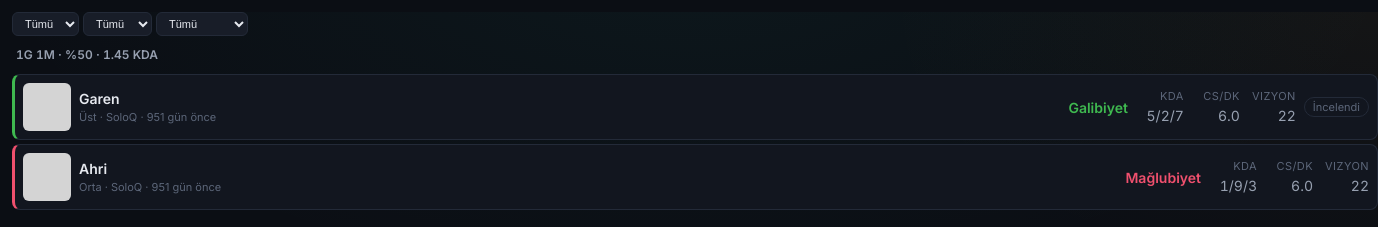
it: MatchHistoryView › filters the list by result and by champion (Slice 3)
Check: the list is shown, box [12,74,1377,210]
Check: the text "5/2/7" is shown, box [1146,89,1184,124]
Select "Galibiyet" in the dropdown named "Sonuç": [202, 24] box [156,12,248,36]
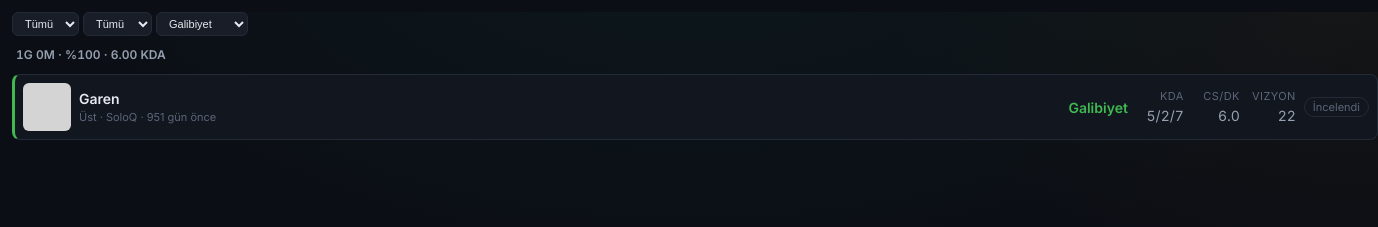
Check: the text "5/2/7" is shown, box [1146,89,1184,124]
Check: the text "1/9/3" is gone
Select "Tümü" in the dropdown named "Sonuç": [202, 24] box [156,12,248,36]
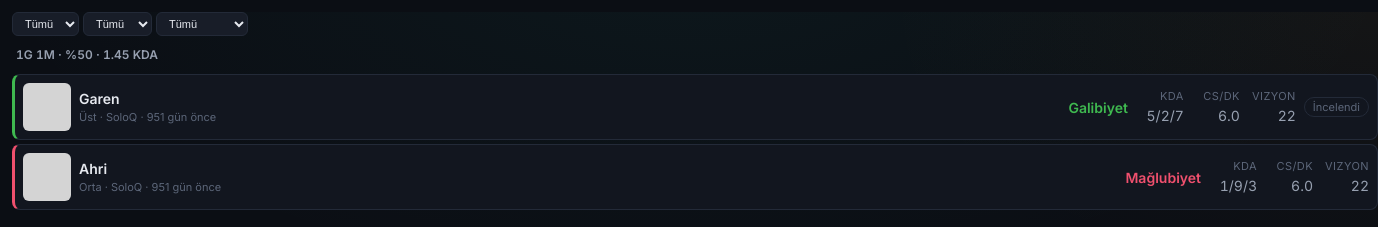
Select "Ahri" in the dropdown named "Şampiyon": [118, 24] box [83,12,152,36]
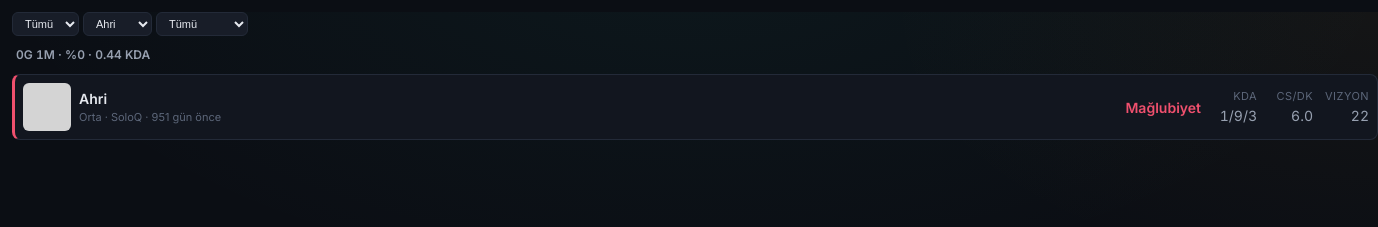
Check: the text "1/9/3" is shown, box [1220,89,1257,124]
Check: the button "5/2/7" is gone
